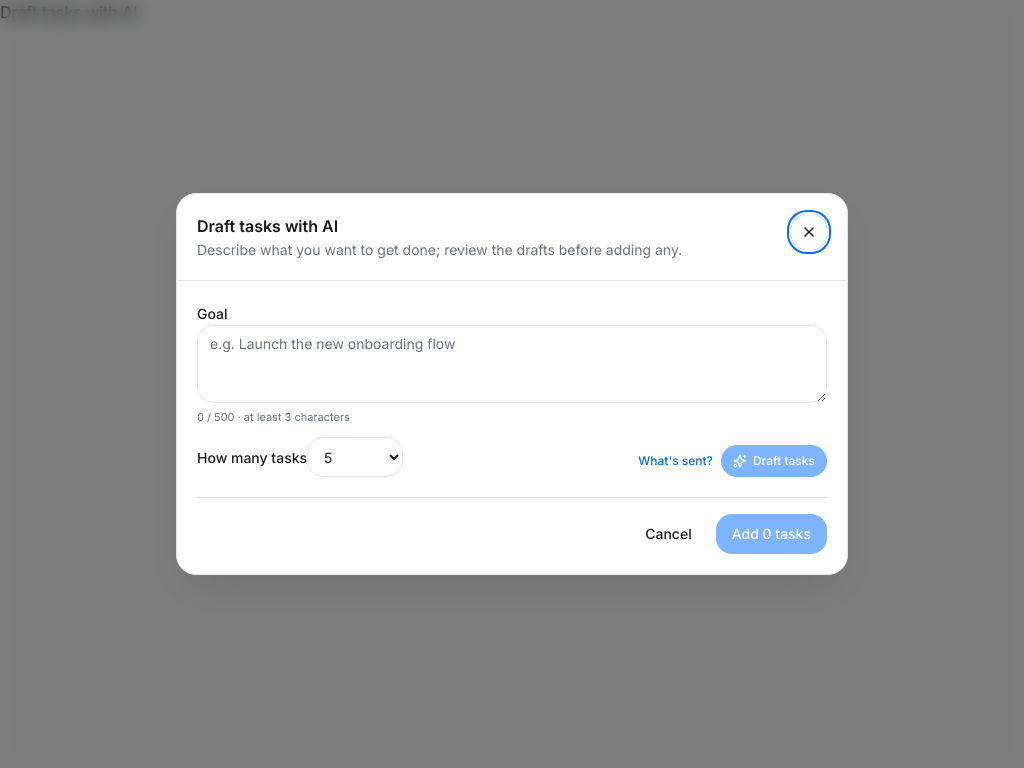
Test: asking for drafts › counts the goal, needs 3 characters, and sends the goal and how many tasks
This screenshot has width=1024, height=768.
Expected: the button "Draft tasks" is disabled, [721,445,827,477]
Type "Go" into the text box labelled "Goal".
click(512, 364); type("Go")  # box [197,325,827,403]
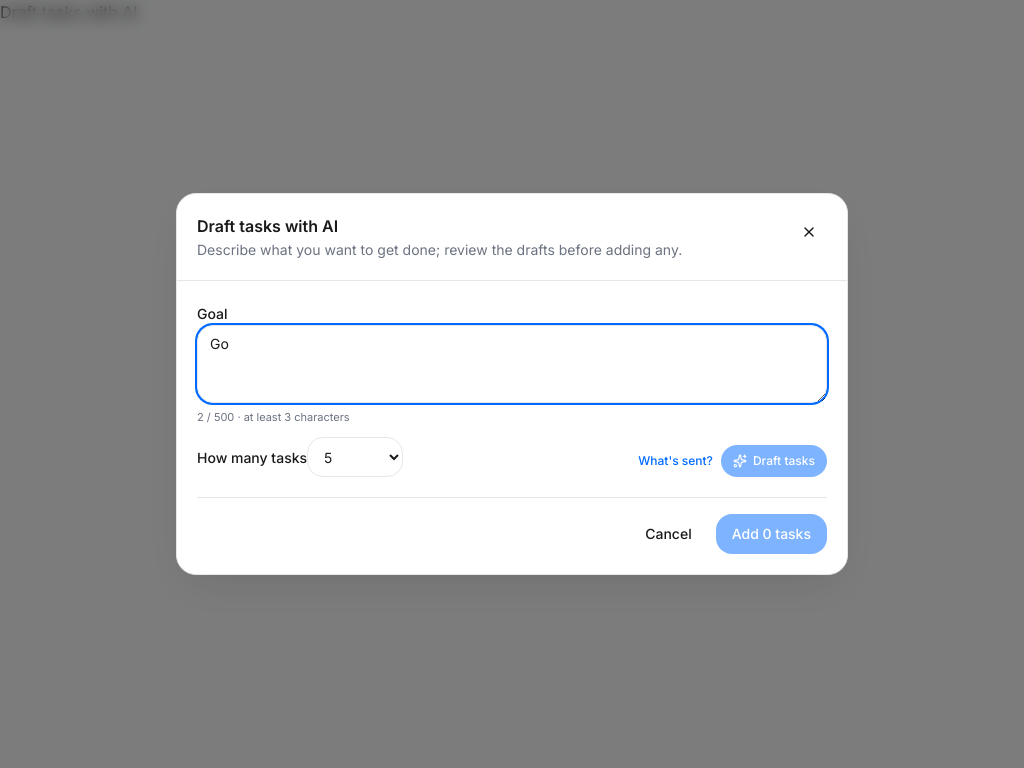
Expected: the button "Draft tasks" is disabled, [721,445,827,477]
Result: the text "2 / 500 · at least 3 characters" is shown at [197,410,350,424]
Type "!" into the text box labelled "Goal".
click(512, 364); type("!")  # box [197,325,827,403]
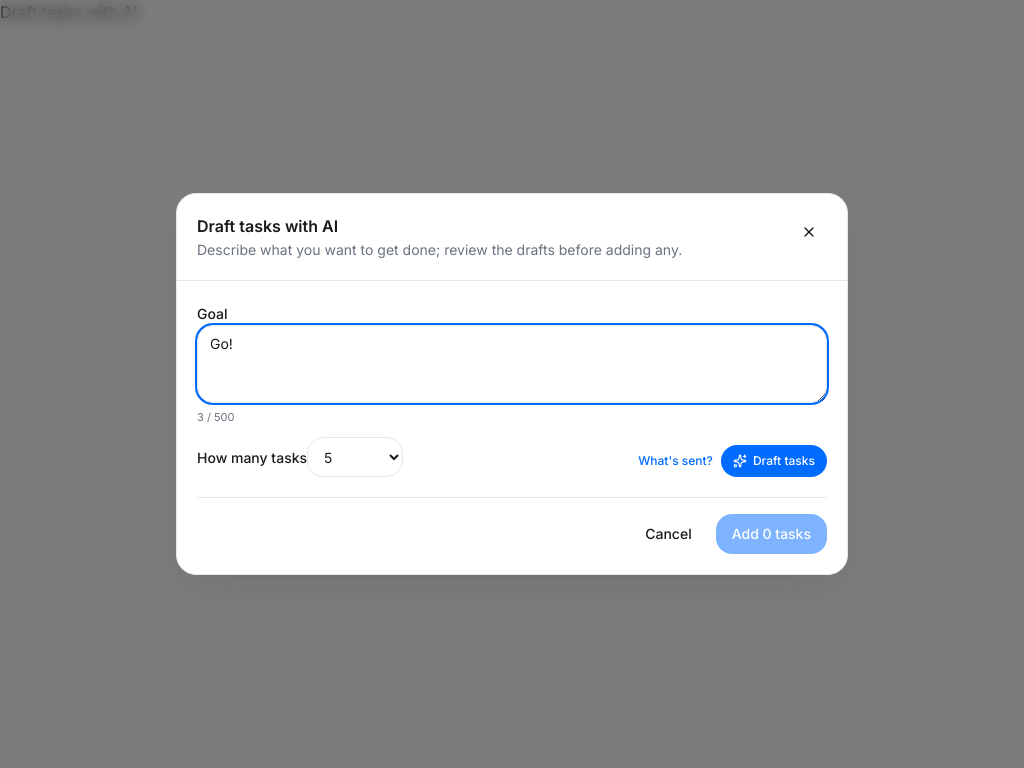
Select "3" in the dropdown labelled "How many tasks" at (355, 457), box [307,437,403,477]
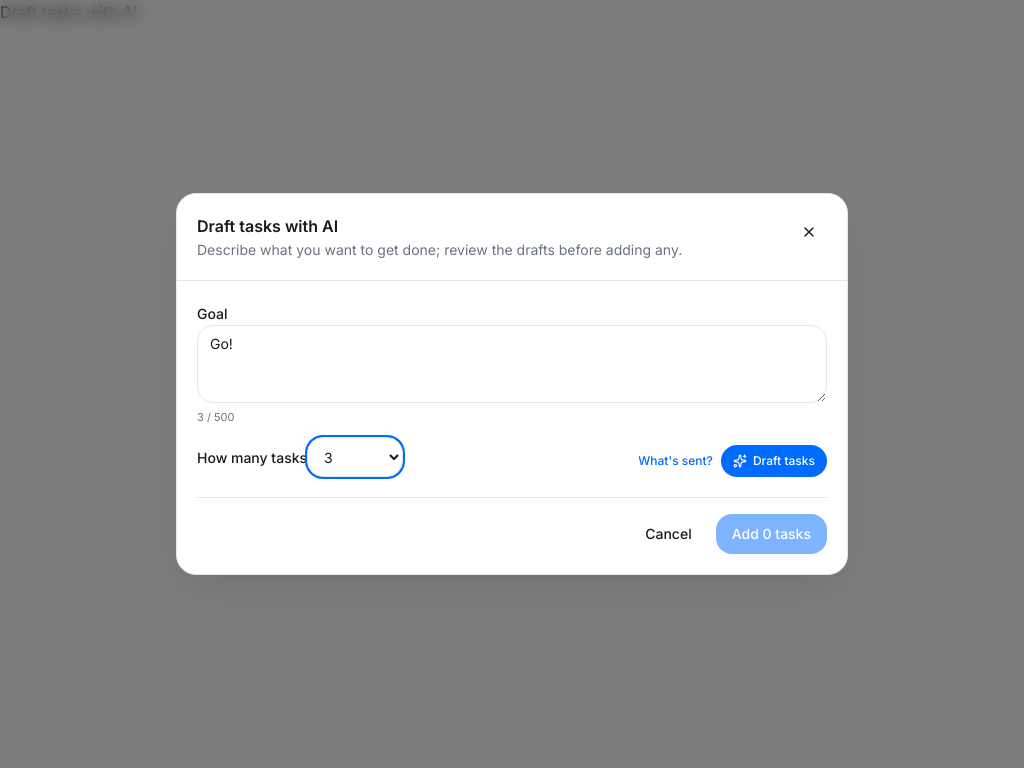
Click the button "Draft tasks".
click(774, 461)  # box [721,445,827,477]
(page scrolled)
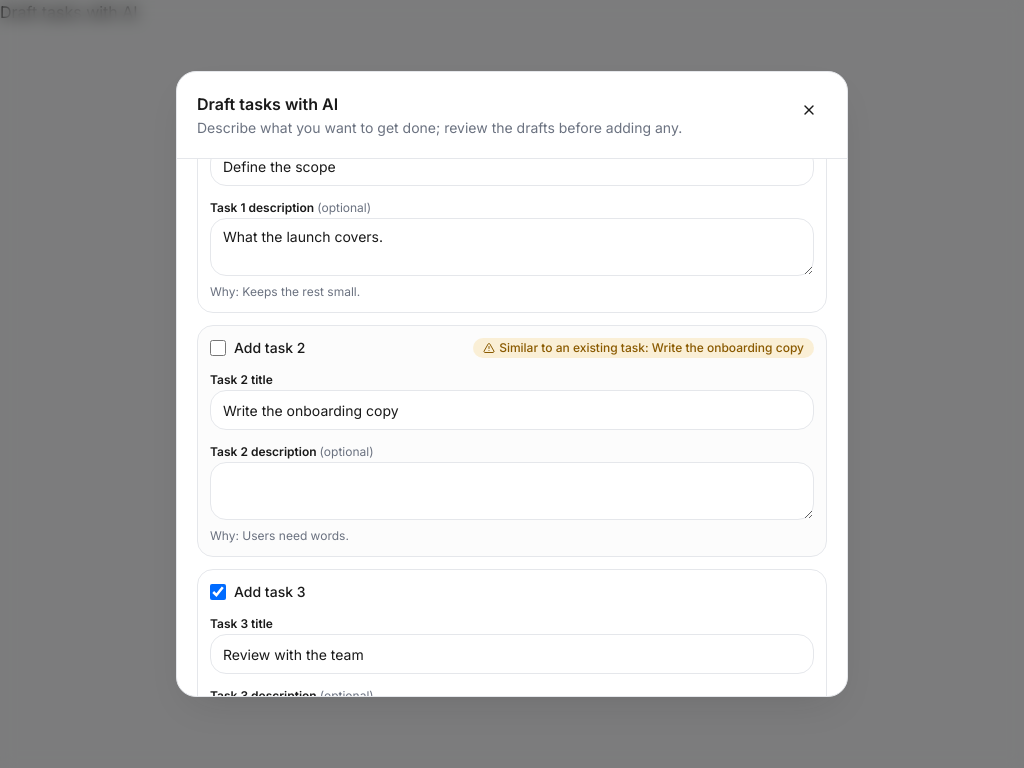
Result: the element "Suggested tasks" is shown at [197,159,827,696]
